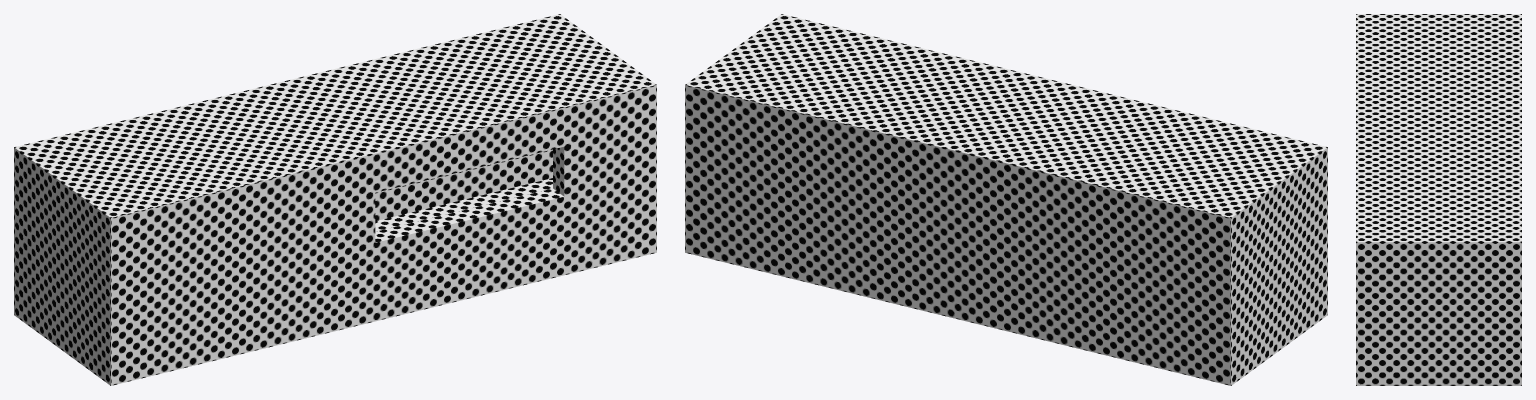
Rendered from lightBox4renderingOverlapUVs (1).fbx.
3 renders of one model, left to right at view 1: azimuth 30°, elevation 25°; view 2: azimuth 150°, elevation 25°; view 3: azimuth 270°, elevation 25°, orthographic. The views are drawn at different scales.
Visible parts, largest first — view 1: lightBox4renderingOverlapUVs; view 2: lightBox4renderingOverlapUVs; view 3: lightBox4renderingOverlapUVs.
Boxes of the visible parts, left/top/right/bottom form: lightBox4renderingOverlapUVs: left=14, top=14, right=656, bottom=385; lightBox4renderingOverlapUVs: left=685, top=14, right=1327, bottom=385; lightBox4renderingOverlapUVs: left=1356, top=14, right=1521, bottom=385.
Bounding box in the file's own units: 850 × 250 × 261.
